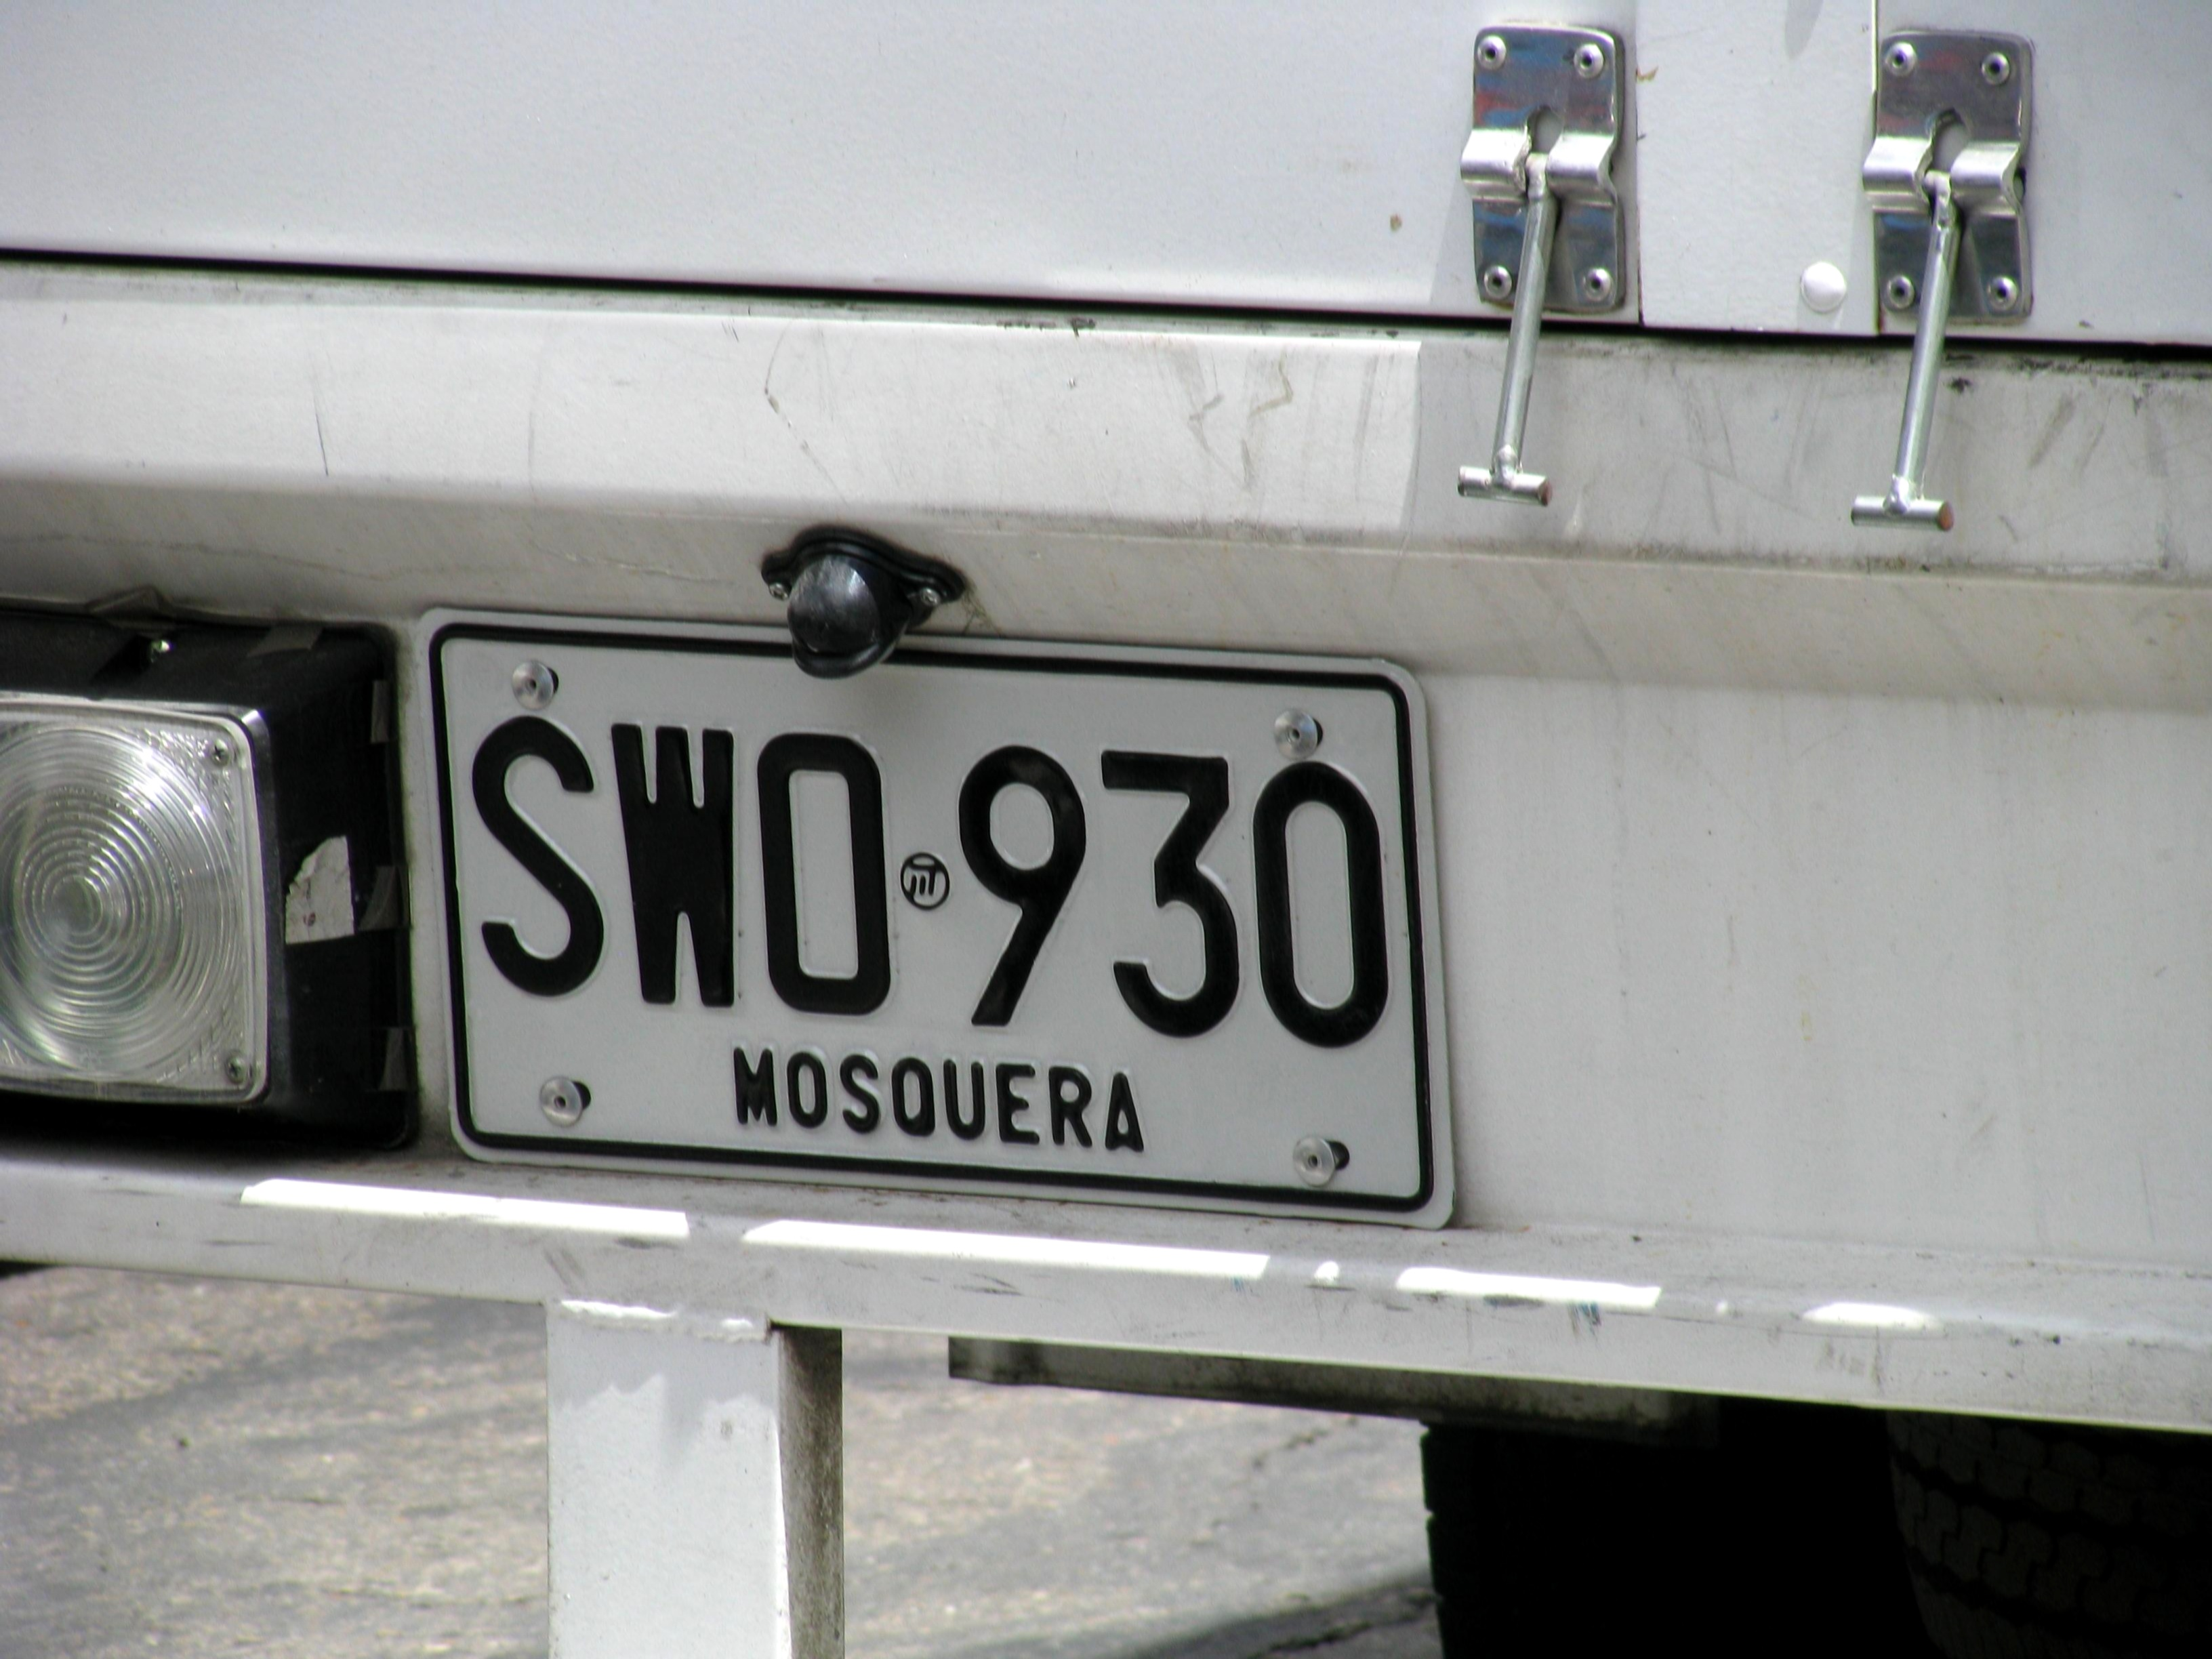placas: (396, 573, 1463, 1241)
